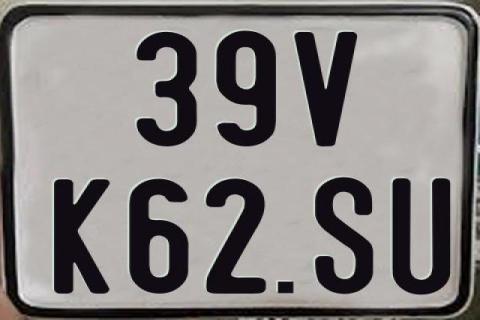0: (215, 31, 281, 151), (134, 30, 199, 150), (126, 178, 192, 294), (203, 178, 268, 294)
K: (54, 177, 113, 293)
S: (314, 177, 373, 297)
U: (389, 178, 448, 296)
V: (294, 31, 363, 149)
